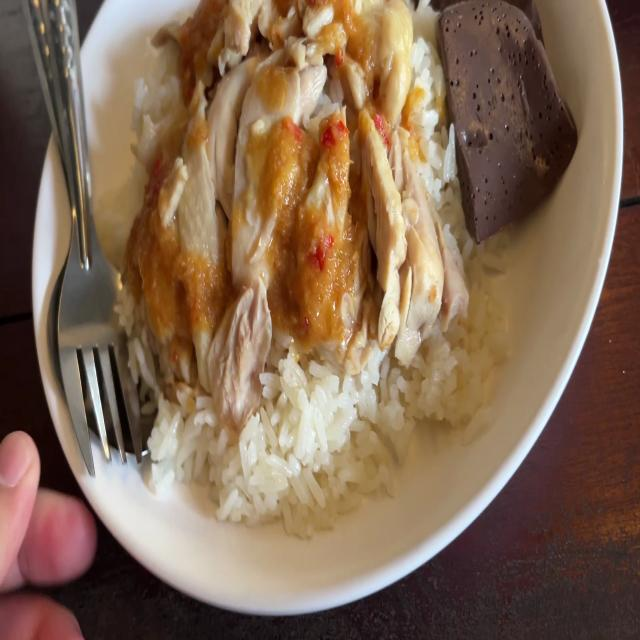boiled_chicken: (118, 0, 455, 366)
boiled_chicken_blood_jelly: (446, 0, 567, 214)
chicken_rice: (115, 0, 584, 515)
